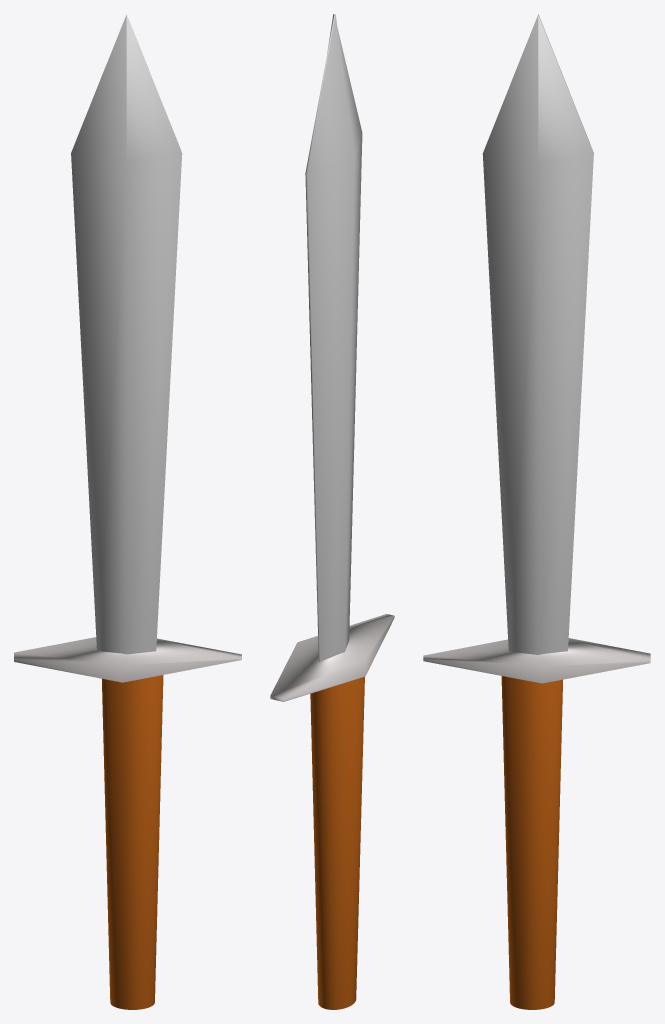
The model's file is NormalSword(final).fbx.
3 renders of one model, left to right at view 1: azimuth 90°, elevation 25°; view 2: azimuth 150°, elevation 25°; view 3: azimuth 270°, elevation 25°, orthographic.
Visible parts, largest first — view 1: Cylinder; view 2: Cylinder; view 3: Cylinder.
Boxes of the visible parts, x1=… form: Cylinder: x1=14, y1=14, x2=241, y2=1009; Cylinder: x1=270, y1=14, x2=394, y2=1009; Cylinder: x1=423, y1=14, x2=650, y2=1009.
Size of the model in its own units: 23.11 by 320 by 66.83.
